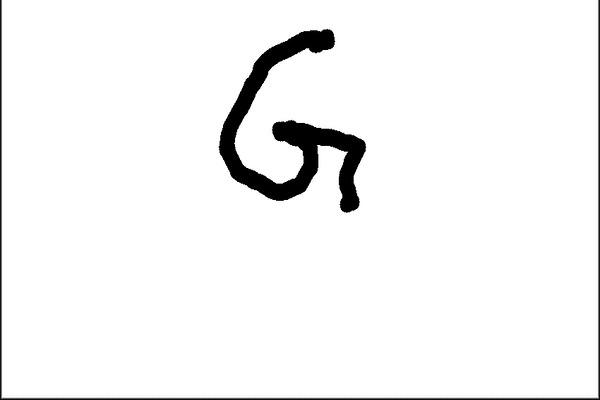G: (214, 23, 374, 218)
